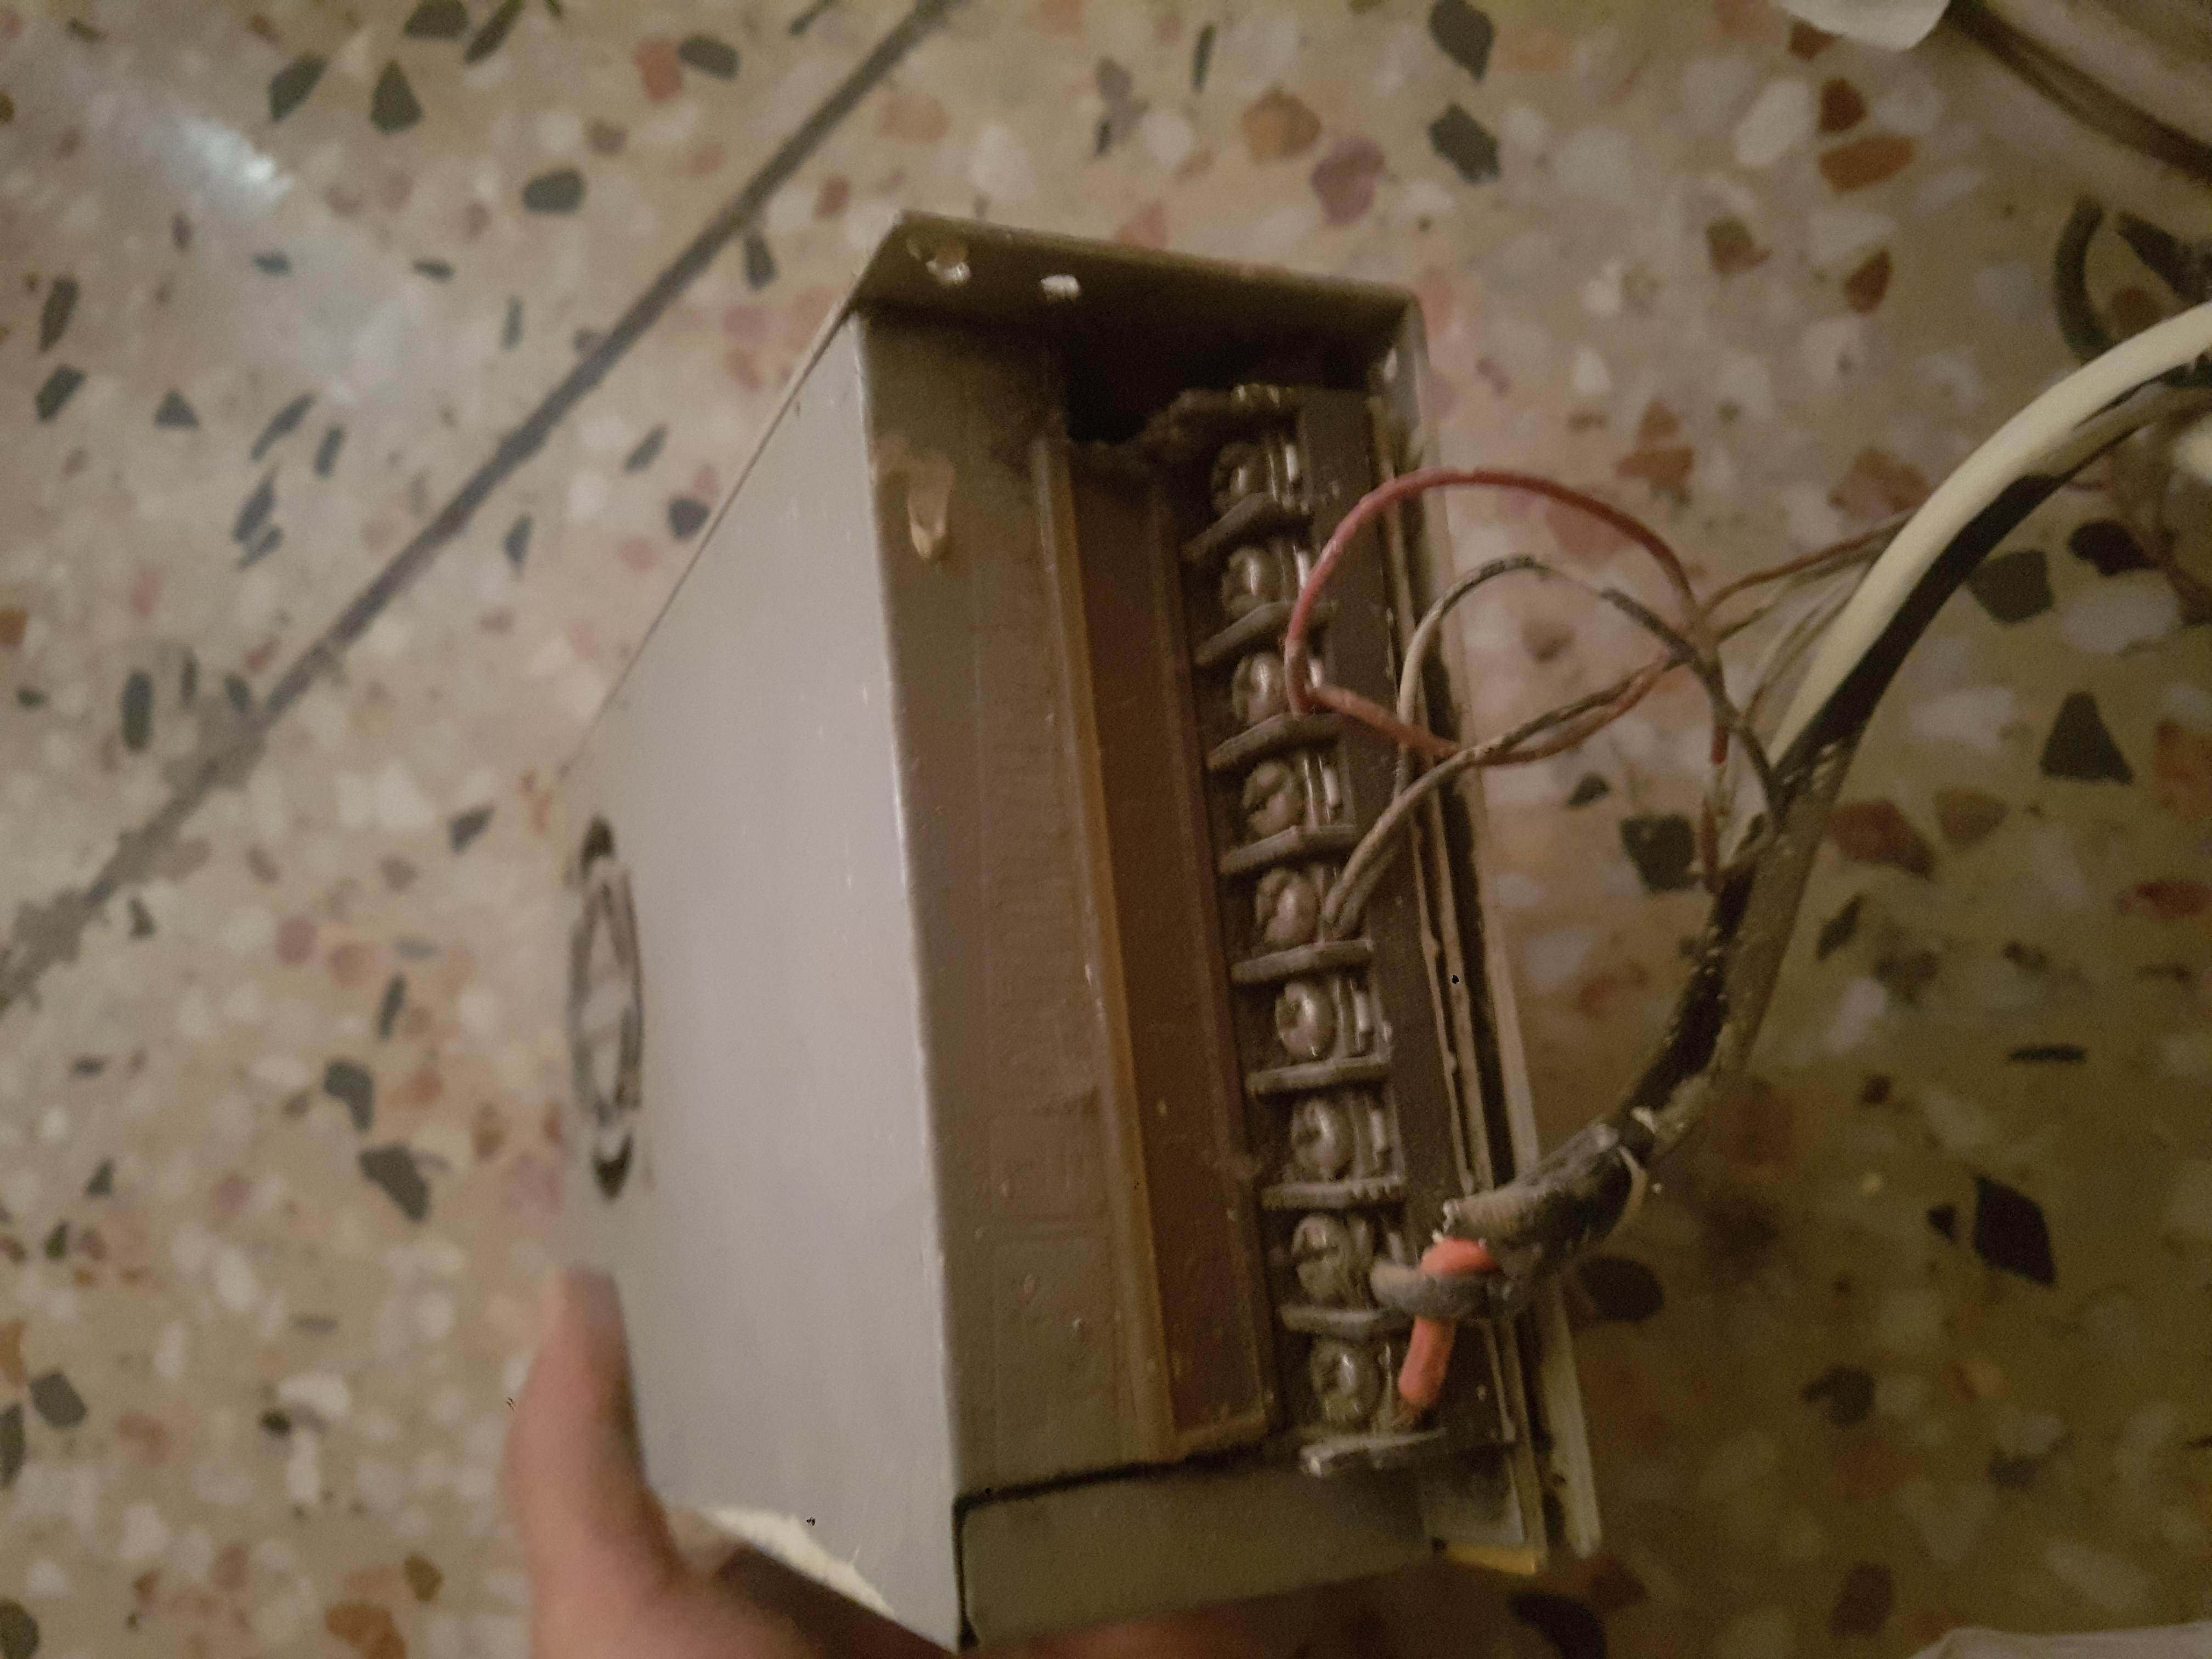electronic: (606, 9, 1684, 1460)
